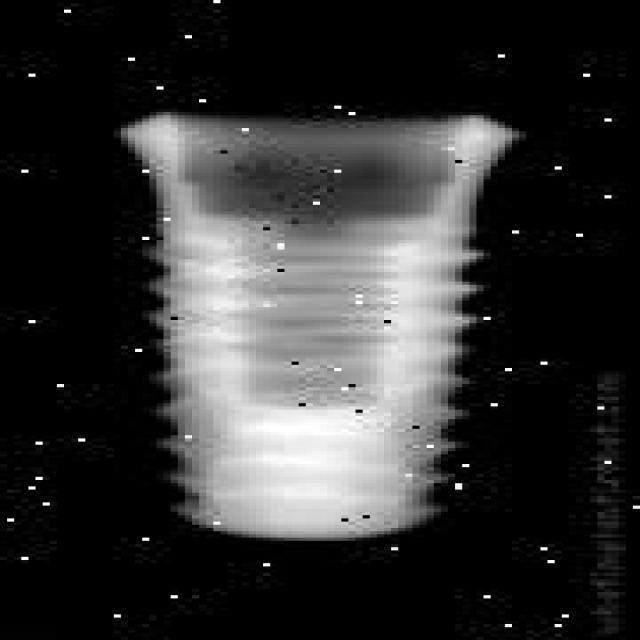Titan Implant Implant: (114, 112, 519, 544)
